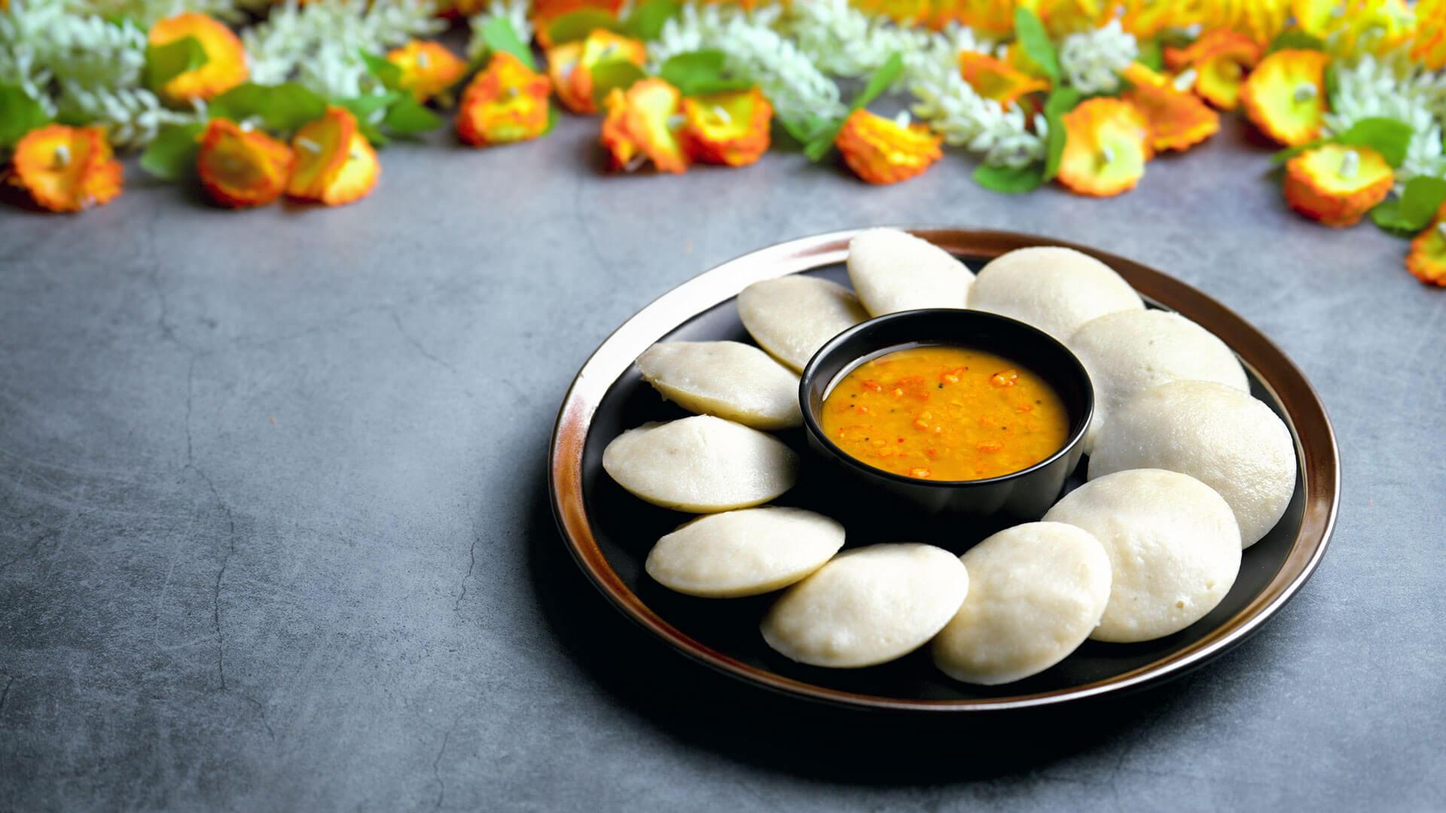idli: (601, 282, 836, 643), (795, 512, 1264, 686), (1063, 300, 1326, 513), (857, 219, 1103, 335)
sambhar: (849, 342, 1038, 465)
